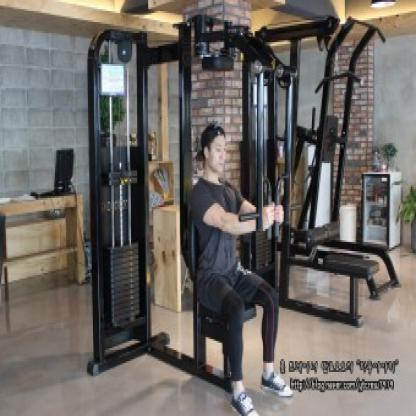chest fly machine: (75, 10, 294, 416)
